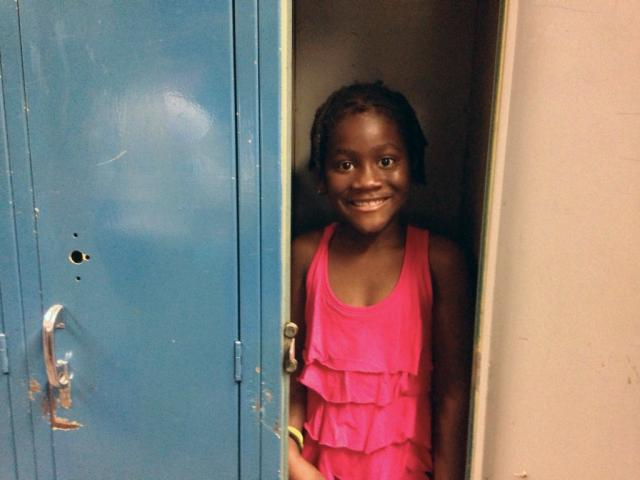Door-handle: (47, 302, 69, 391)
